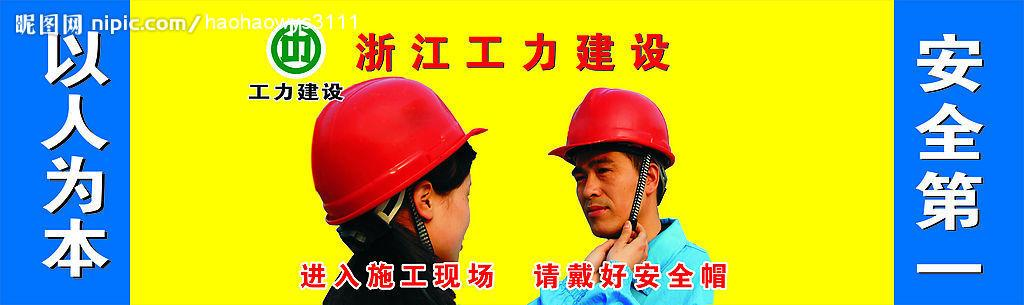helmet: (311, 75, 466, 220), (549, 90, 678, 165)
